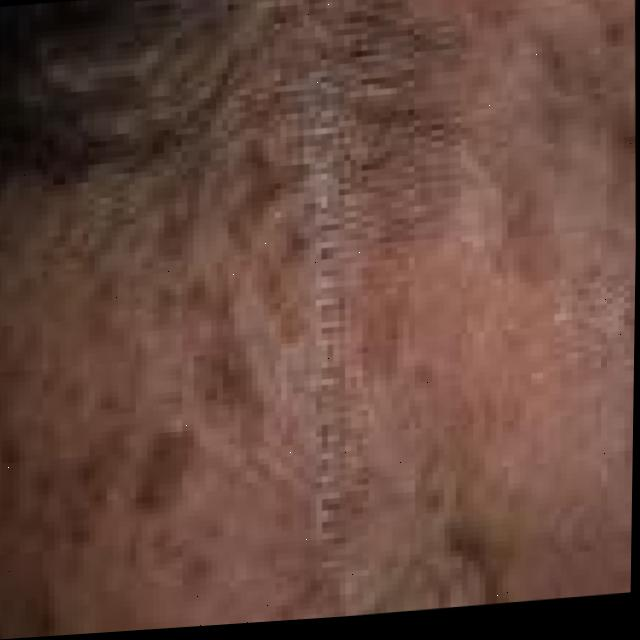Melasma: (7, 0, 344, 539)
